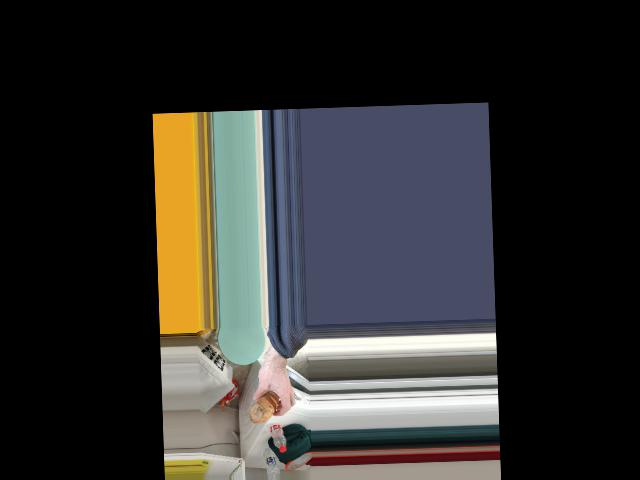sweet_potato: (250, 388, 280, 422)
